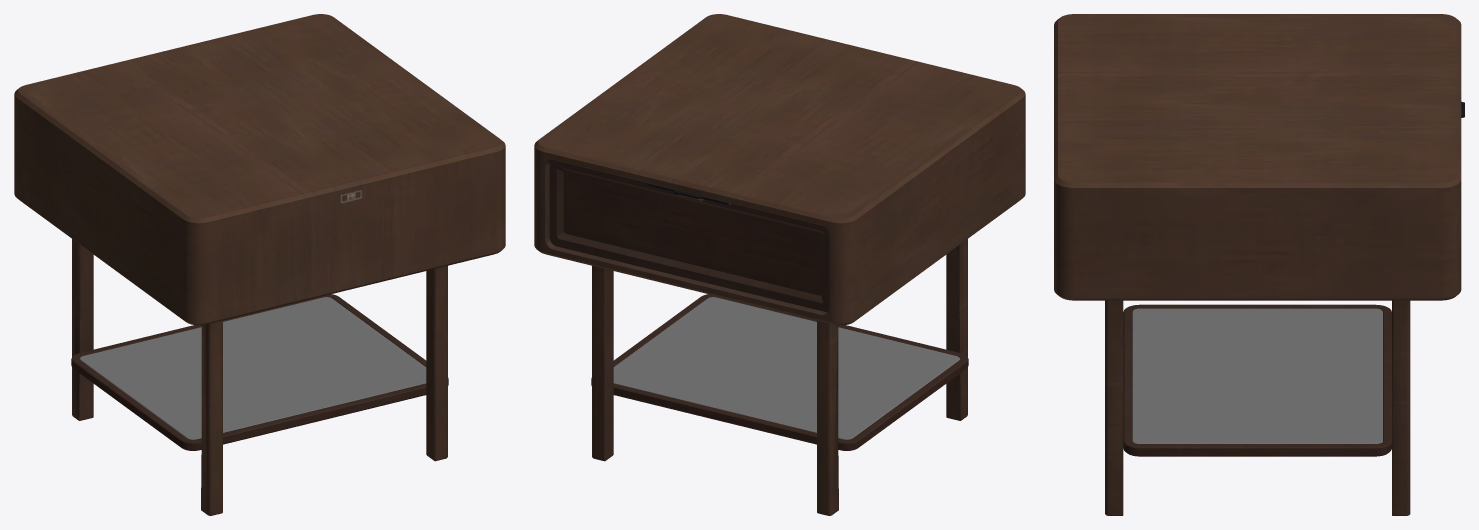
The model's file is nightstand_jlrin_craneo.glb.
3 renders of one model, left to right at view 1: azimuth 30°, elevation 25°; view 2: azimuth 150°, elevation 25°; view 3: azimuth 270°, elevation 25°, orthographic. The views are drawn at different scales.
Visible parts, largest first — view 1: Object_4; view 2: Object_4; view 3: Object_4.
Boxes of the visible parts, x1,y1,x2,y2 form: Object_4: (14,14,505,515); Object_4: (534,14,1025,515); Object_4: (1054,14,1464,515).
Size of the model in its own units: 0.597 by 0.572 by 0.6022.
1 material, 1 textured.
